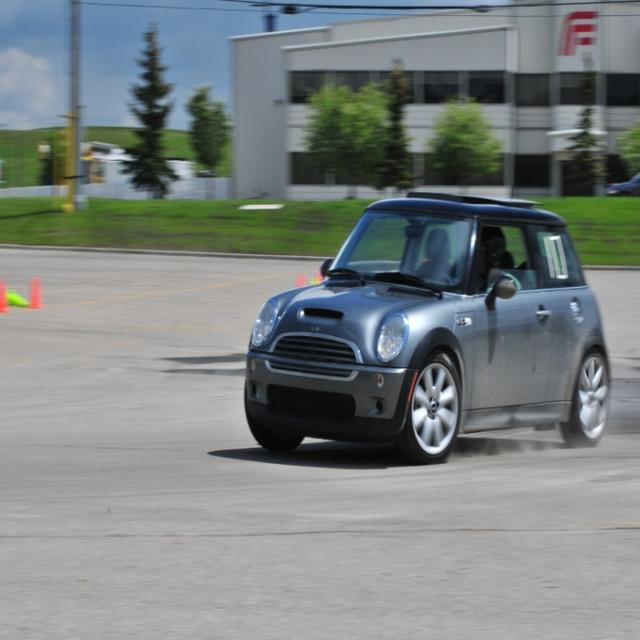car: (239, 188, 612, 461)
